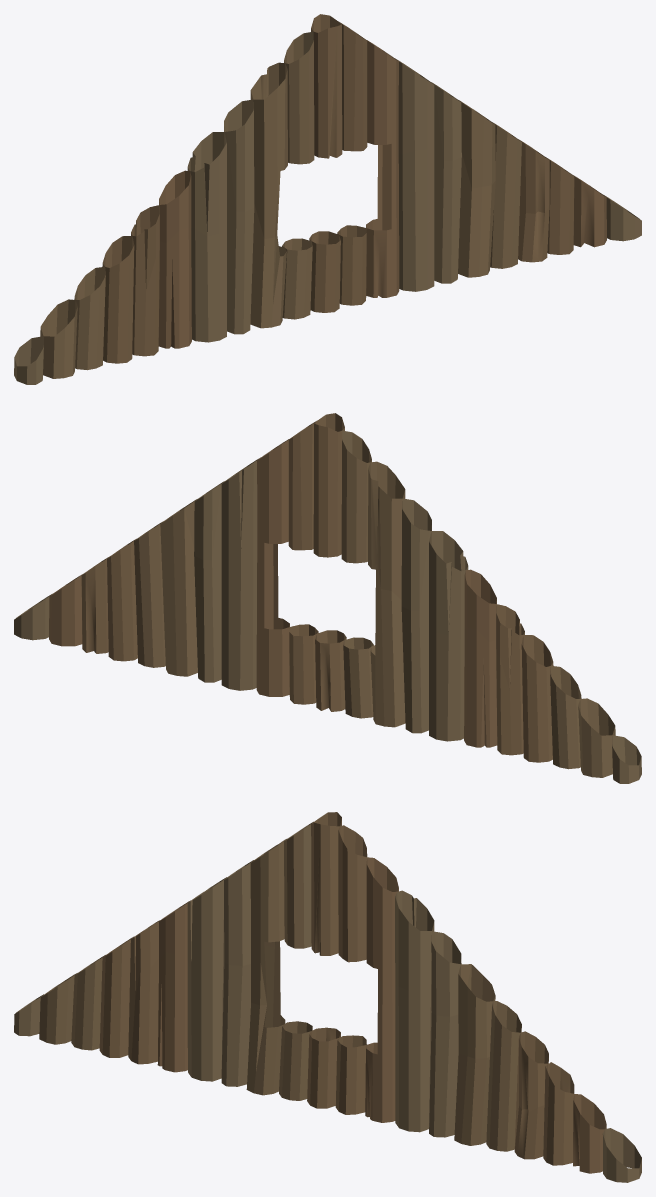
Rendered from rpgpp_ag_roof_end_01_9x4_wall_window_02a.fbx.
3 renders of one model, top to bottom at view 1: azimuth 30°, elevation 25°; view 2: azimuth 150°, elevation 25°; view 3: azimuth 330°, elevation 25°, orthographic.
Visible parts, largest first — view 1: rpgpp_ag_roof_end_01_9x4_wall_window_02a; view 2: rpgpp_ag_roof_end_01_9x4_wall_window_02a; view 3: rpgpp_ag_roof_end_01_9x4_wall_window_02a.
Part boxes in pixels (x1,y1,x2,y2): rpgpp_ag_roof_end_01_9x4_wall_window_02a: (14,14,641,384); rpgpp_ag_roof_end_01_9x4_wall_window_02a: (14,413,641,783); rpgpp_ag_roof_end_01_9x4_wall_window_02a: (14,812,641,1182).
Bounding box in the file's own units: 9 × 3.93 × 0.4626.
